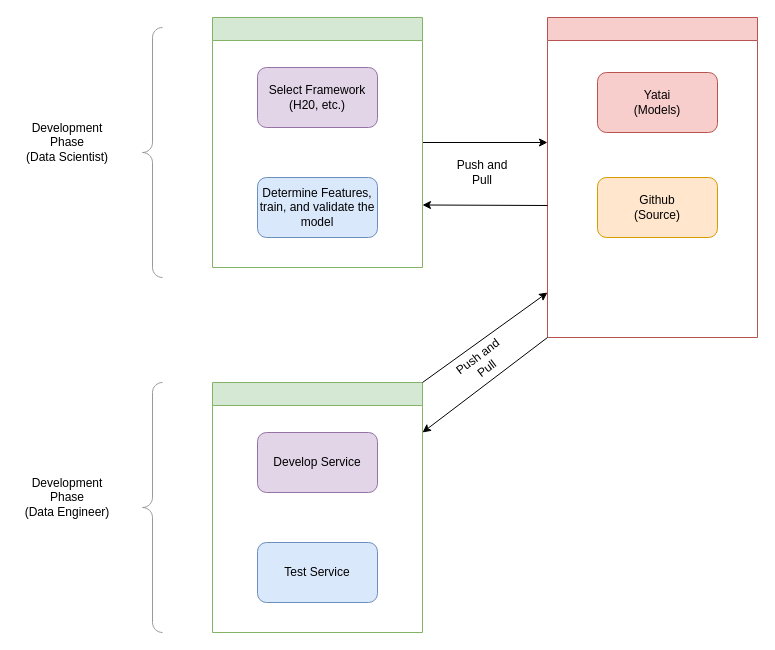
This 775x650 diagram has some shape labels left out. The shapes that lost their labels are listed below. From the top down, each one's box as (x1, y1, x2, y2) in pixels, then its label:
(212, 16, 422, 268): Modeling Stage
(546, 16, 758, 338): Central Stores (EA)
(212, 382, 422, 632): Service Creation
